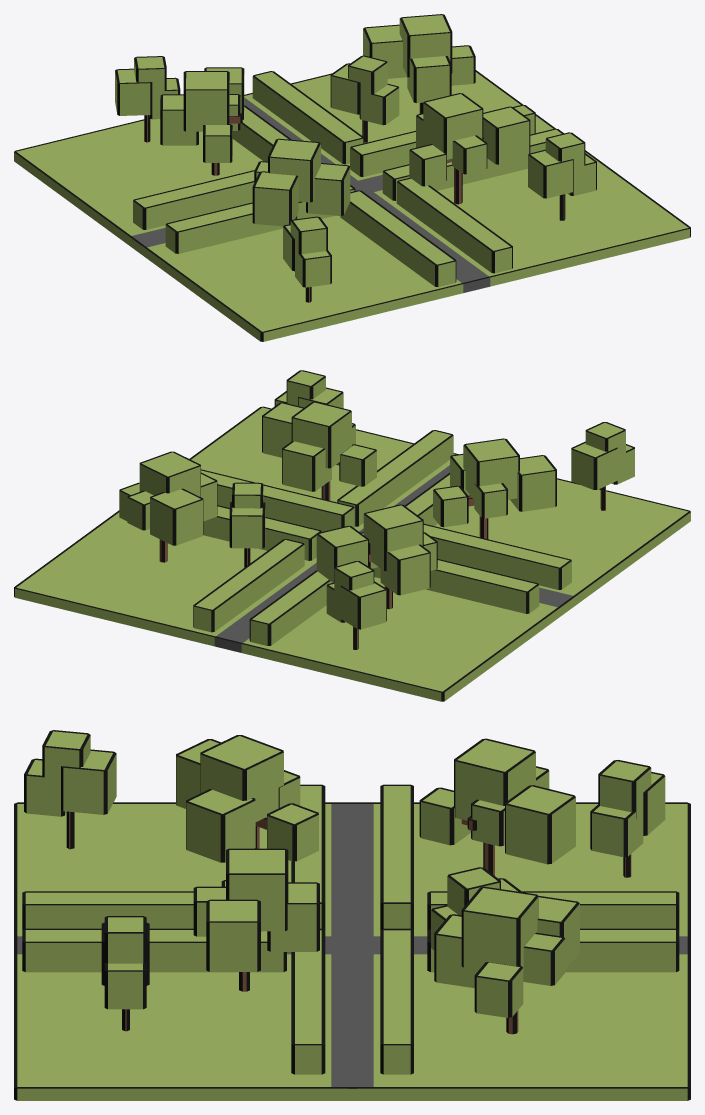
The model's file is Garden.fbx.
The picture shows the model from 3 angles, top to bottom: view 1: azimuth 30°, elevation 25°; view 2: azimuth 150°, elevation 25°; view 3: azimuth 270°, elevation 25°; orthographic projection. The views are drawn at different scales.
Visible parts, largest first — view 1: Cube.046; view 2: Cube.046; view 3: Cube.046.
Part boxes in pixels (x1=…): Cube.046: x1=14, y1=14, x2=690, y2=341; Cube.046: x1=14, y1=370, x2=690, y2=701; Cube.046: x1=14, y1=730, x2=690, y2=1100.
Bounding box in the file's own units: 40.17 × 9.17 × 40.17.
